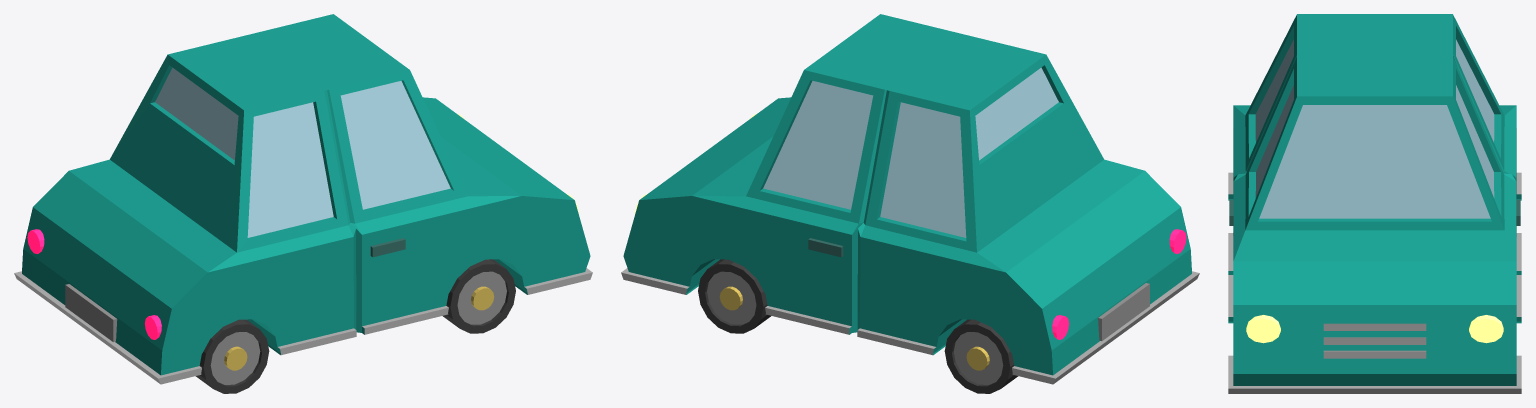
Rendered from 2_car_green.fbx.
3 views of the same model, side by side, from view 1: azimuth 30°, elevation 25°; view 2: azimuth 150°, elevation 25°; view 3: azimuth 270°, elevation 25° (orthographic).
Visible parts, largest first — view 1: Cube, Cylinder, Cube.002, Cylinder.009; view 2: Cube, Cylinder, Cube.002, Cylinder.009; view 3: Cube, Cube.001, Cylinder.008, Cube.003.
Part boxes in pixels (x1,y1,x2,y2): Cube: [14, 14, 592, 384]; Cylinder: [195, 259, 515, 393]; Cube.002: [65, 284, 117, 341]; Cylinder.009: [27, 229, 161, 339]; Cube: [621, 14, 1199, 384]; Cylinder: [698, 259, 1018, 393]; Cube.002: [1098, 283, 1149, 340]; Cylinder.009: [1052, 229, 1186, 339]; Cube: [1228, 14, 1521, 393]; Cube.001: [1323, 323, 1426, 358]; Cylinder.008: [1246, 315, 1503, 343]; Cube.003: [1229, 199, 1520, 225].
Size of the model in its own units: 102 by 56.41 by 58.34.
